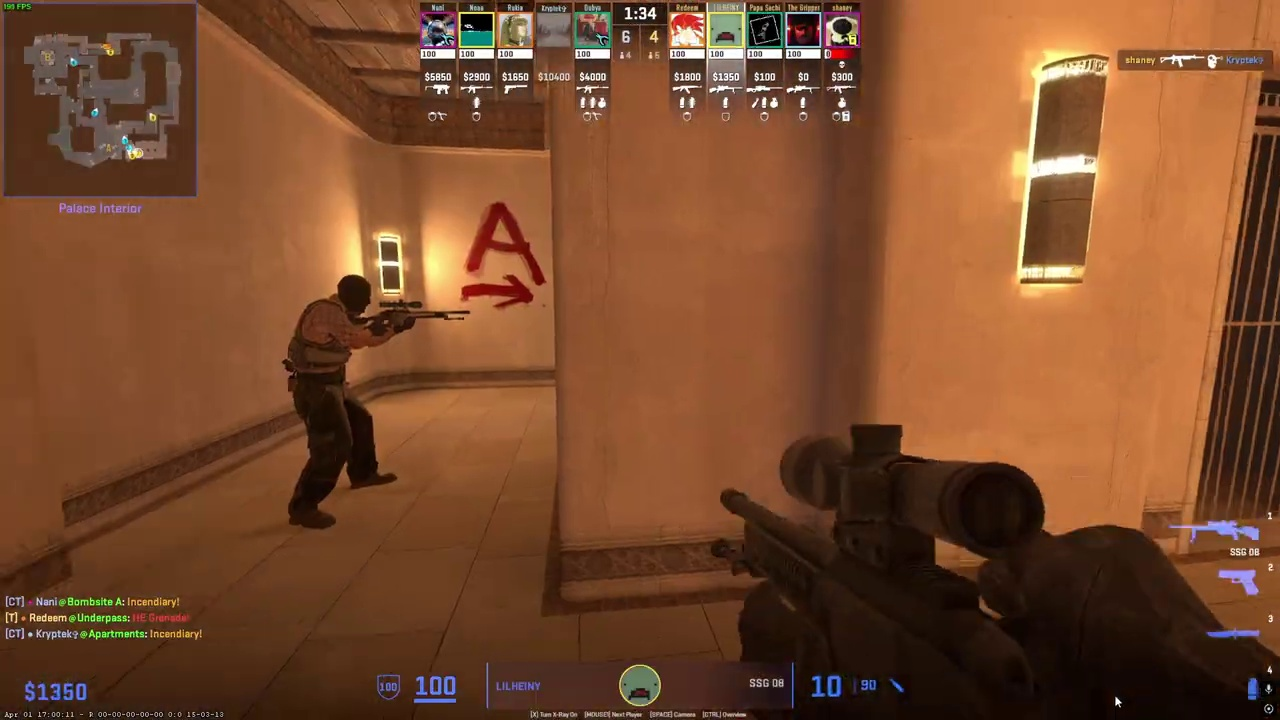Terrorist: (285, 274, 396, 533)
